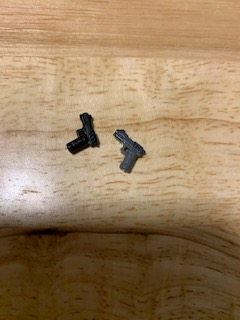pistol: (64, 108, 104, 158), (108, 126, 147, 175)
